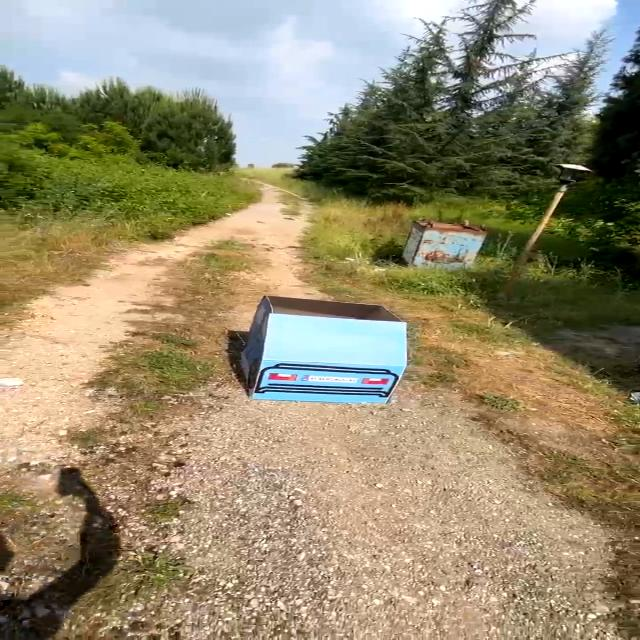blue_car: (222, 285, 428, 415)
